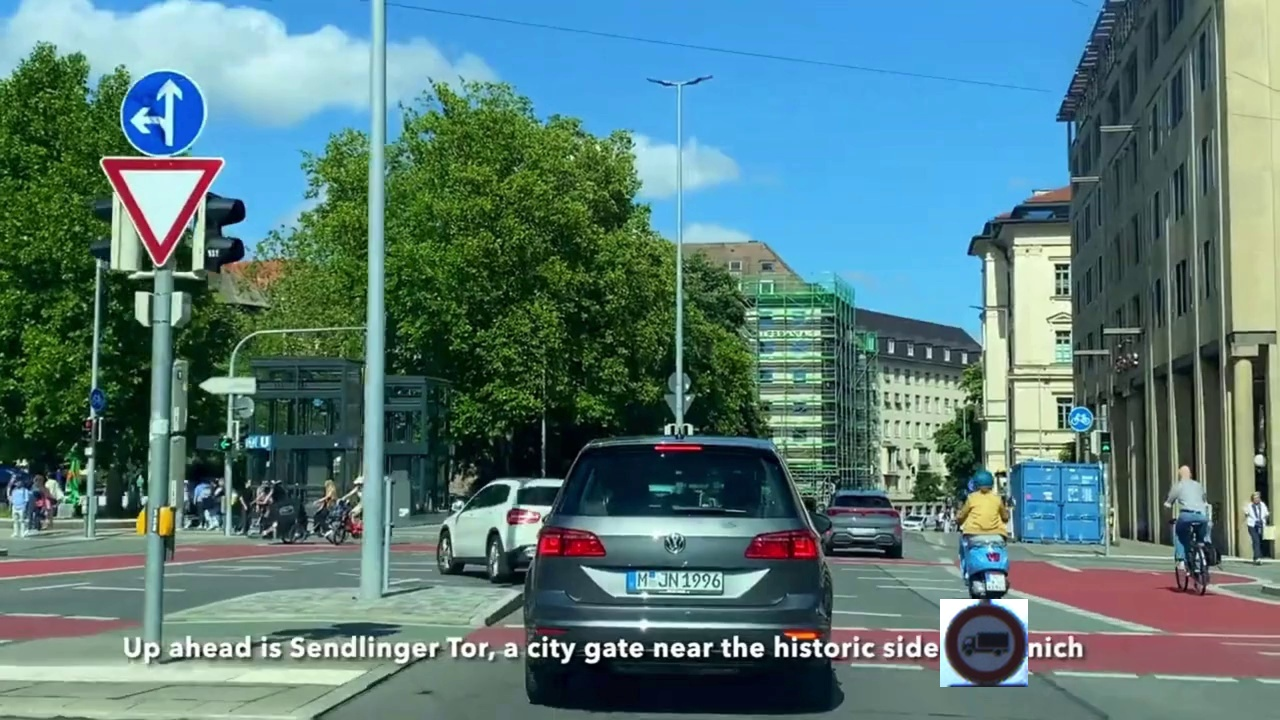Veh >3.5t prohib: (940, 599, 1028, 687)
